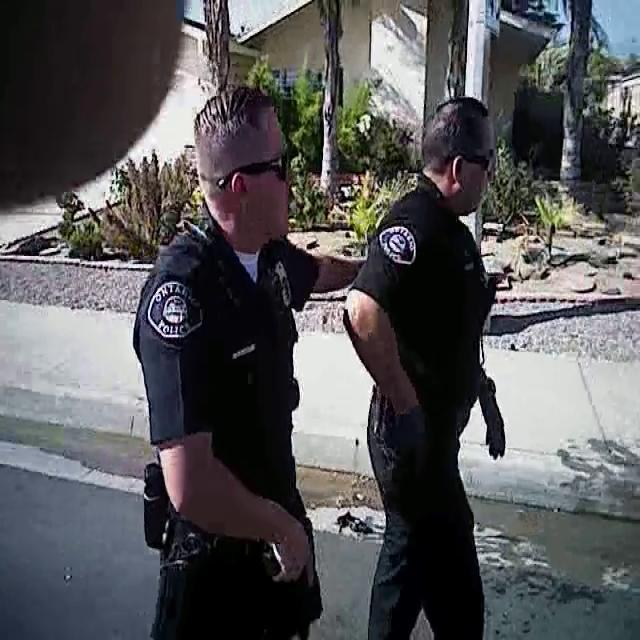gun: (255, 483, 343, 636)
